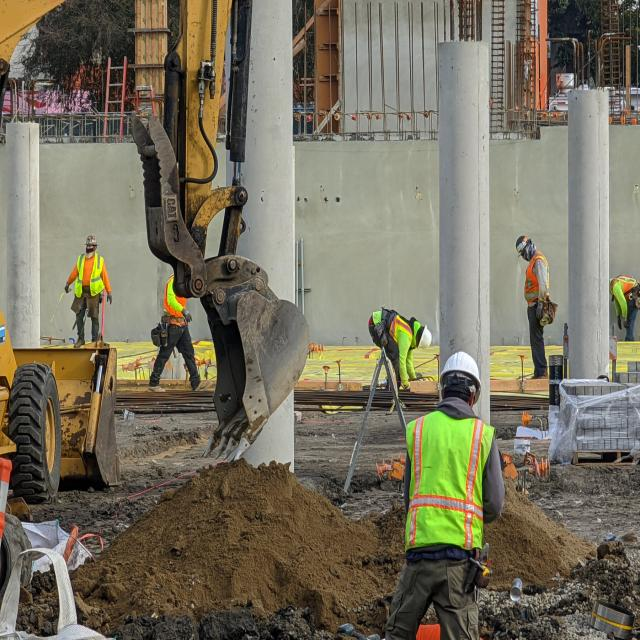helmet: (426, 336, 485, 404), (413, 323, 439, 361)
vest: (398, 408, 492, 561), (64, 250, 114, 309), (154, 273, 196, 341), (371, 303, 414, 354), (608, 266, 638, 331), (521, 256, 545, 311)
